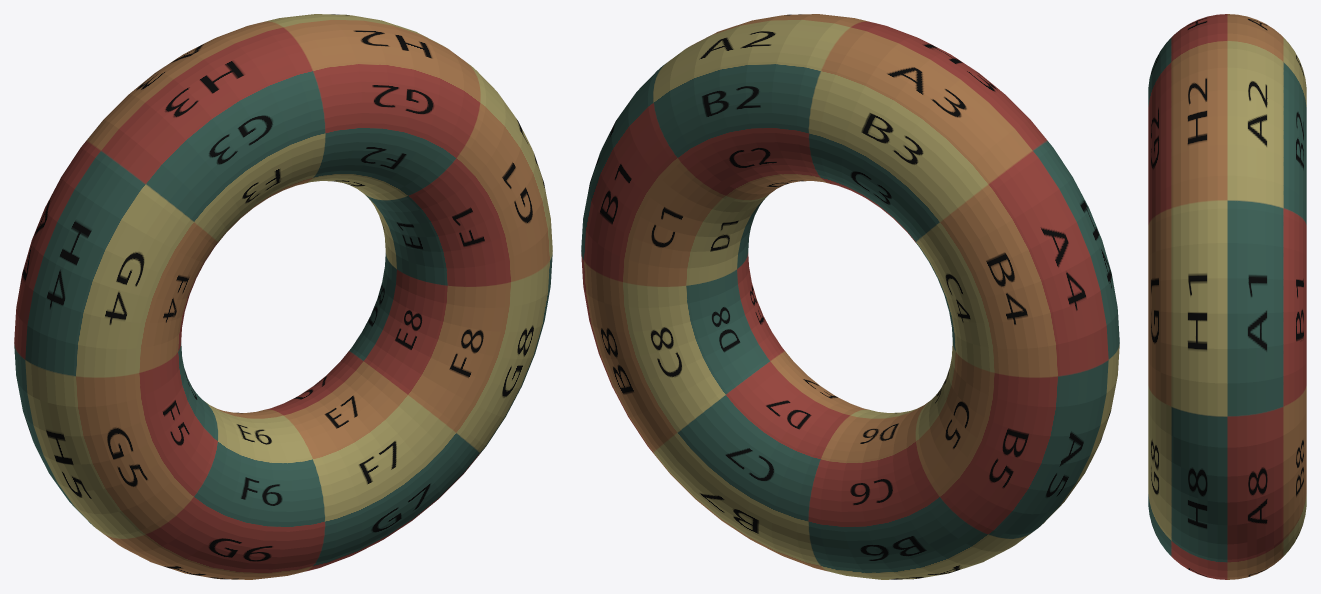
Rendered from texture_torus_R4_r11.glb.
The picture shows the model from 3 angles, left to right: view 1: azimuth 30°, elevation 25°; view 2: azimuth 150°, elevation 25°; view 3: azimuth 270°, elevation 25°; orthographic projection. The views are drawn at different scales.
Visible parts, largest first — view 1: world; view 2: world; view 3: world.
Boxes of the visible parts, <box> form: world: <box>14,14,552,579</box>; world: <box>581,14,1119,579</box>; world: <box>1148,14,1306,579</box>.
Bounding box in the file's own units: 17.6 × 17.57 × 4.92.
1 material, 1 textured.
